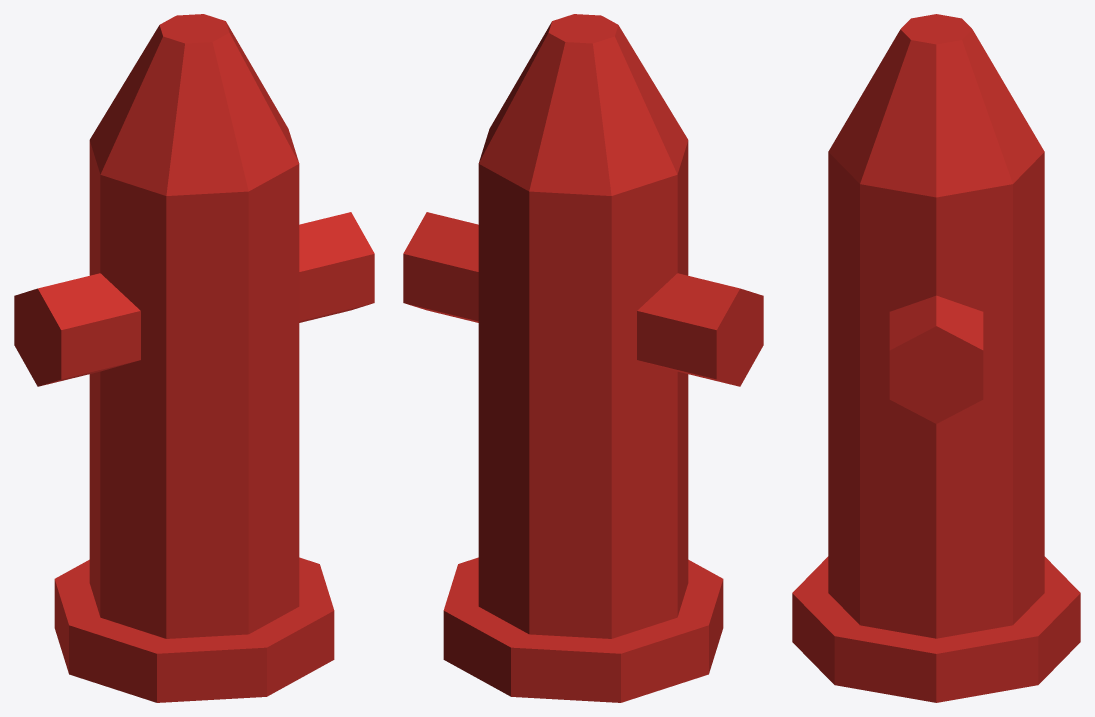
The model's file is prop_hydrant.glb.
The picture shows the model from 3 angles, left to right: view 1: azimuth 30°, elevation 25°; view 2: azimuth 150°, elevation 25°; view 3: azimuth 270°, elevation 25°; orthographic projection.
Parts seen in each view (by area): view 1: prop_hydrant__mesh; view 2: prop_hydrant__mesh; view 3: prop_hydrant__mesh.
Boxes of the visible parts, x1,y1,x2,y2 form: prop_hydrant__mesh: (14, 14, 374, 702); prop_hydrant__mesh: (403, 14, 763, 702); prop_hydrant__mesh: (792, 14, 1080, 702).
Size of the model in its own units: 0.4 by 0.75 by 0.32.
